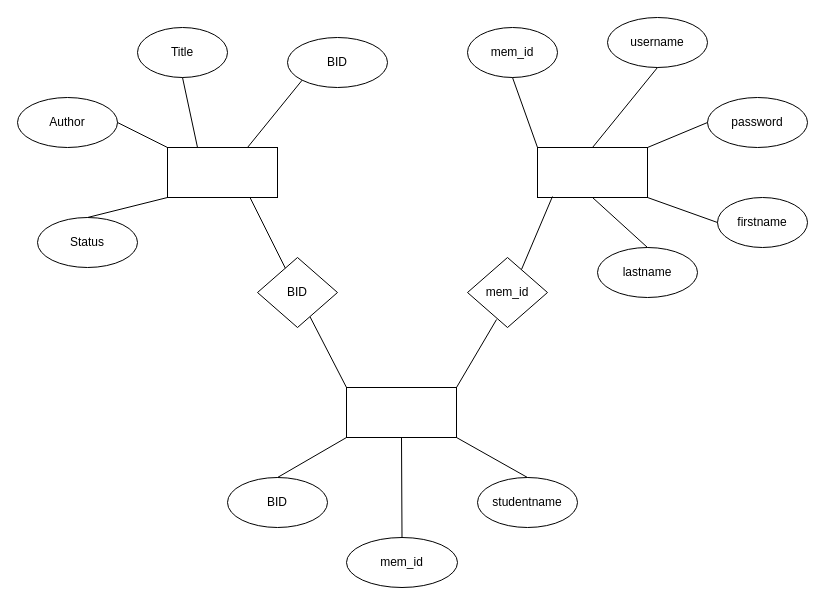
This 825x605 diagram has some shape labels left out. The shapes that lost their labels are listed below. From the top down, each one's box as (x1, y1, x2, y2) in pixels, then its label:
(166, 146, 278, 198): Books
(536, 146, 648, 198): Members
(346, 386, 456, 438): Book_issued
